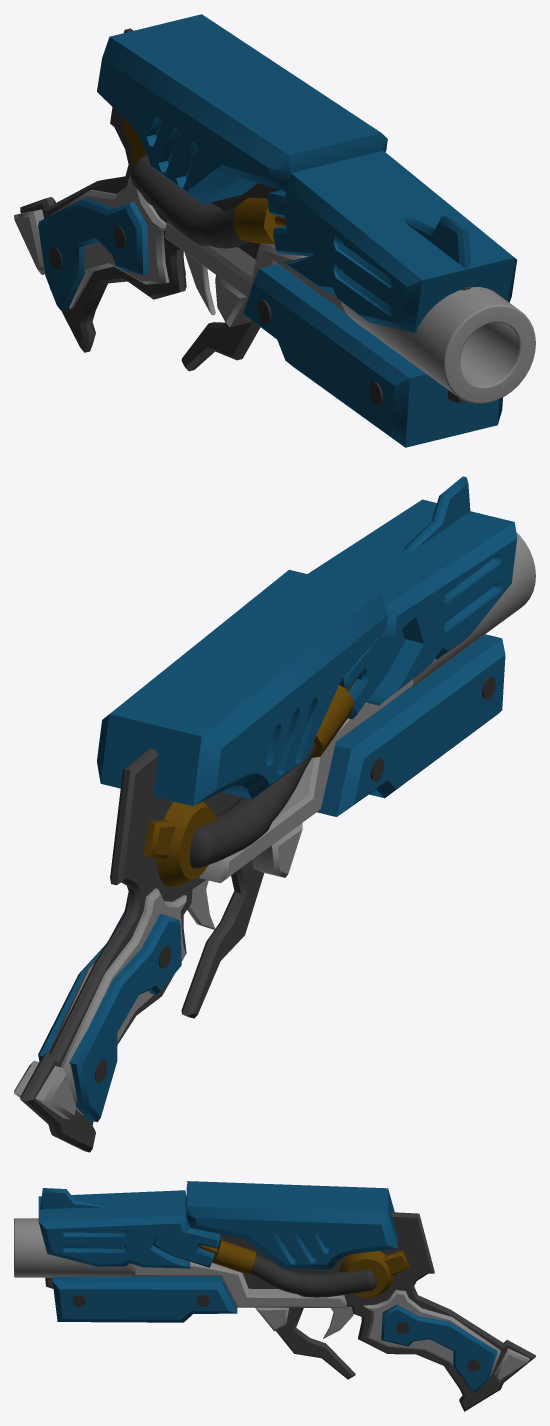
The picture shows the model from 3 angles, top to bottom: view 1: azimuth 30°, elevation 25°; view 2: azimuth 150°, elevation 25°; view 3: azimuth 270°, elevation 25°; orthographic projection. The views are drawn at different scales.
Parts seen in each view (by area): view 1: bodyC1, bodyM1, bodyM2, wireT1, wireC2, bodyT1, triggerM1; view 2: bodyC1, bodyM2, bodyM1, wireC2, wireT1, bodyT1, triggerM1; view 3: bodyC1, bodyM1, bodyM2, wireT1, wireC2, bodyT1, triggerM1.
Boxes of the visible parts, x1,y1,x2,y2 form: bodyC1: [38, 14, 517, 447]; bodyM1: [14, 175, 535, 403]; bodyM2: [20, 28, 470, 402]; wireT1: [130, 154, 249, 248]; wireC2: [122, 119, 286, 244]; bodyT1: [49, 226, 382, 405]; triggerM1: [184, 252, 215, 315]; bodyC1: [38, 476, 517, 1122]; bodyM2: [20, 748, 264, 1152]; bodyM1: [14, 532, 535, 1119]; wireC2: [142, 678, 357, 887]; wireT1: [189, 741, 315, 868]; bodyT1: [94, 676, 495, 1082]; triggerM1: [187, 880, 215, 929]; bodyC1: [38, 1181, 497, 1393]; bodyM1: [14, 1218, 529, 1382]; bodyM2: [45, 1212, 535, 1411]; wireT1: [249, 1254, 376, 1297]; wireC2: [199, 1240, 409, 1297]; bodyT1: [72, 1294, 480, 1371]; triggerM1: [323, 1306, 353, 1338].
Size of the model in its own units: 64.6 by 206 by 439.
